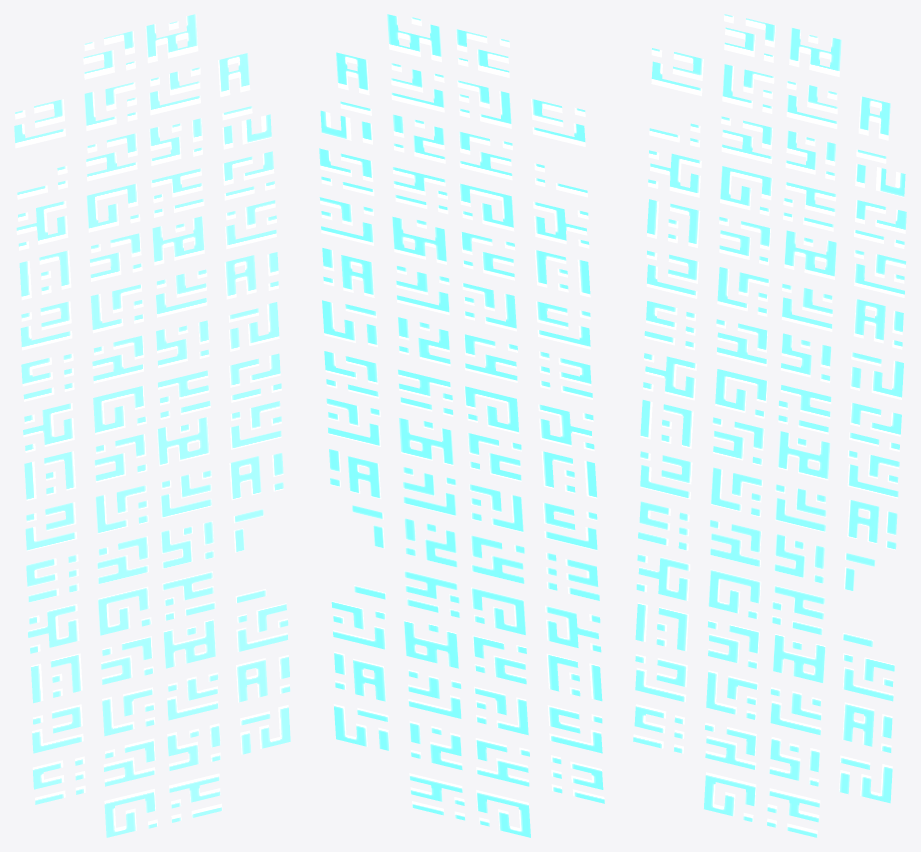
The model's file is Tablet_Origin_Var2_LOD2_dream.glb.
The picture shows the model from 3 angles, left to right: view 1: azimuth 30°, elevation 25°; view 2: azimuth 150°, elevation 25°; view 3: azimuth 330°, elevation 25°; orthographic projection. The views are drawn at different scales.
Visible parts, largest first — view 1: Var2_Holo; view 2: Var2_Holo; view 3: Var2_Holo.
Boxes of the visible parts, x1,y1,x2,y2 form: Var2_Holo: (14,14,290,837); Var2_Holo: (319,14,604,837); Var2_Holo: (633,14,906,837).
Size of what is drawn, in the model's own units: 1.94 by 5.6 by 0.3302.
1 material, 1 textured.
